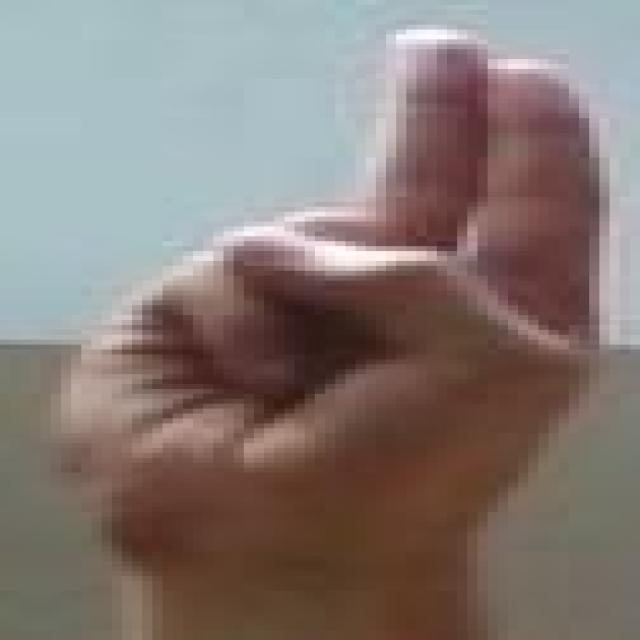U: (14, 5, 640, 633)
